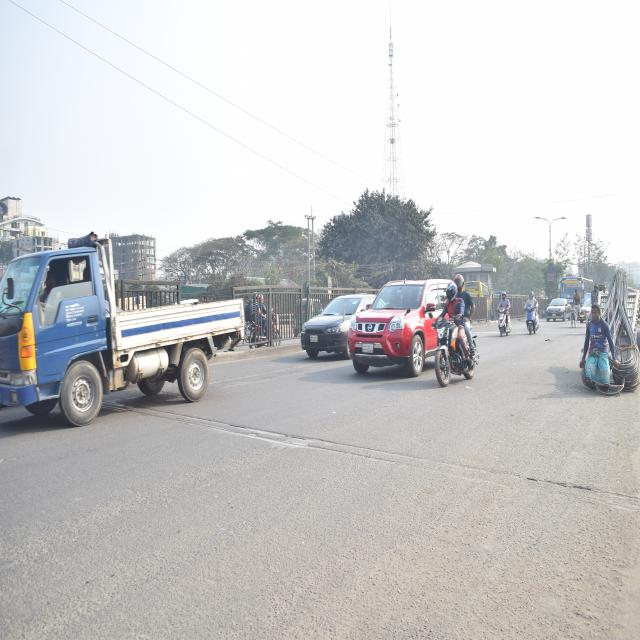bus: (560, 272, 596, 306)
car: (351, 270, 455, 370), (291, 290, 371, 366), (542, 293, 570, 324)
motorbike: (431, 317, 476, 400), (489, 305, 517, 343), (523, 301, 538, 340)
pickup-van: (0, 233, 247, 428)
